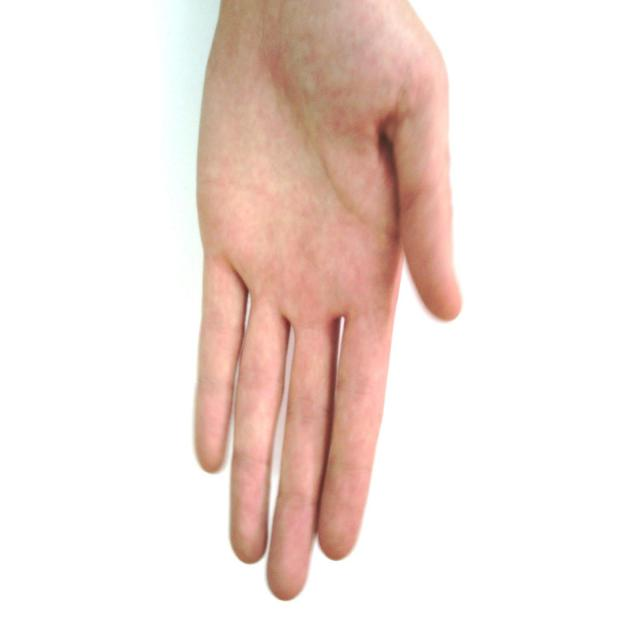others: (168, 1, 485, 598)
